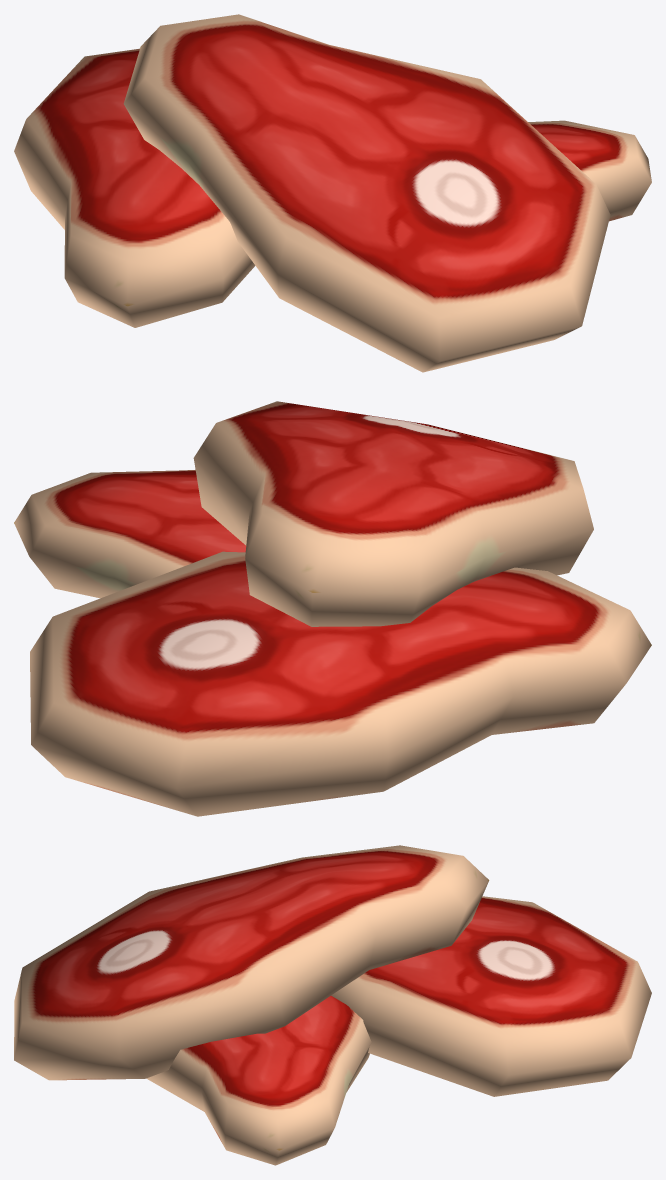
The model's file is SM_PROP_food_meat_02.FBX.
3 renders of one model, top to bottom at view 1: azimuth 30°, elevation 25°; view 2: azimuth 150°, elevation 25°; view 3: azimuth 270°, elevation 25°, orthographic. The views are drawn at different scales.
Visible parts, largest first — view 1: SM_PROP_food_meat_02; view 2: SM_PROP_food_meat_02; view 3: SM_PROP_food_meat_02.
Part boxes in pixels (left/top/right/bottom): SM_PROP_food_meat_02: left=14, top=14, right=651, bottom=372; SM_PROP_food_meat_02: left=14, top=401, right=651, bottom=816; SM_PROP_food_meat_02: left=14, top=845, right=651, bottom=1165.
Bounding box in the file's own units: 51.89 × 57.73 × 16.38.
